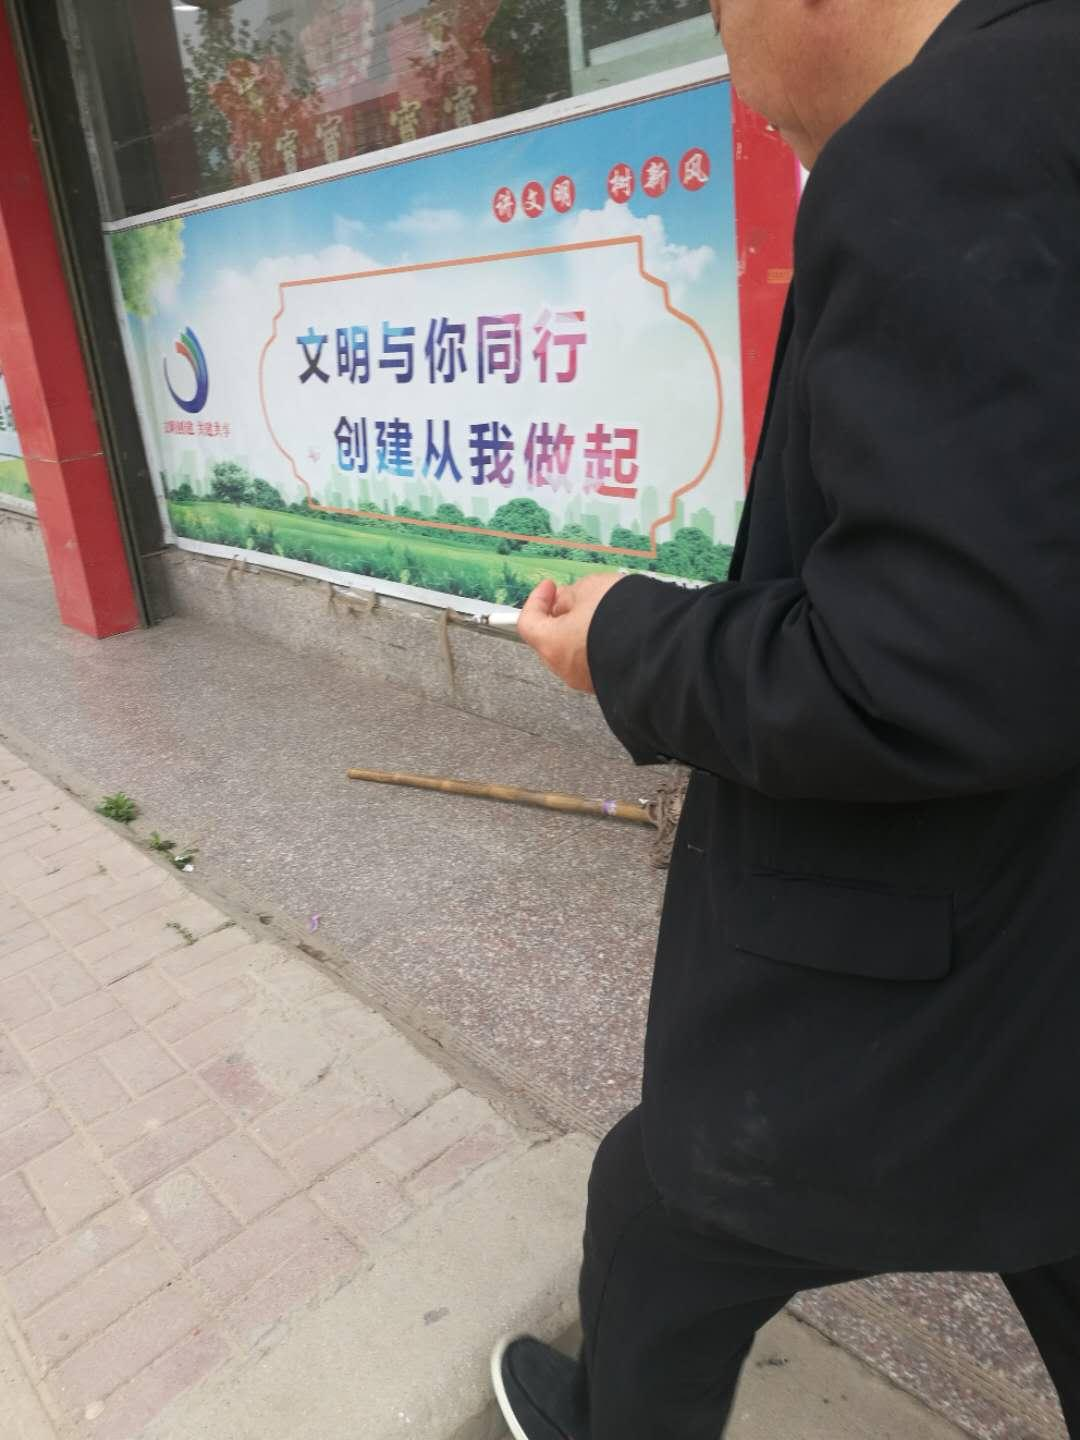Cigarette: (468, 610, 524, 630)
